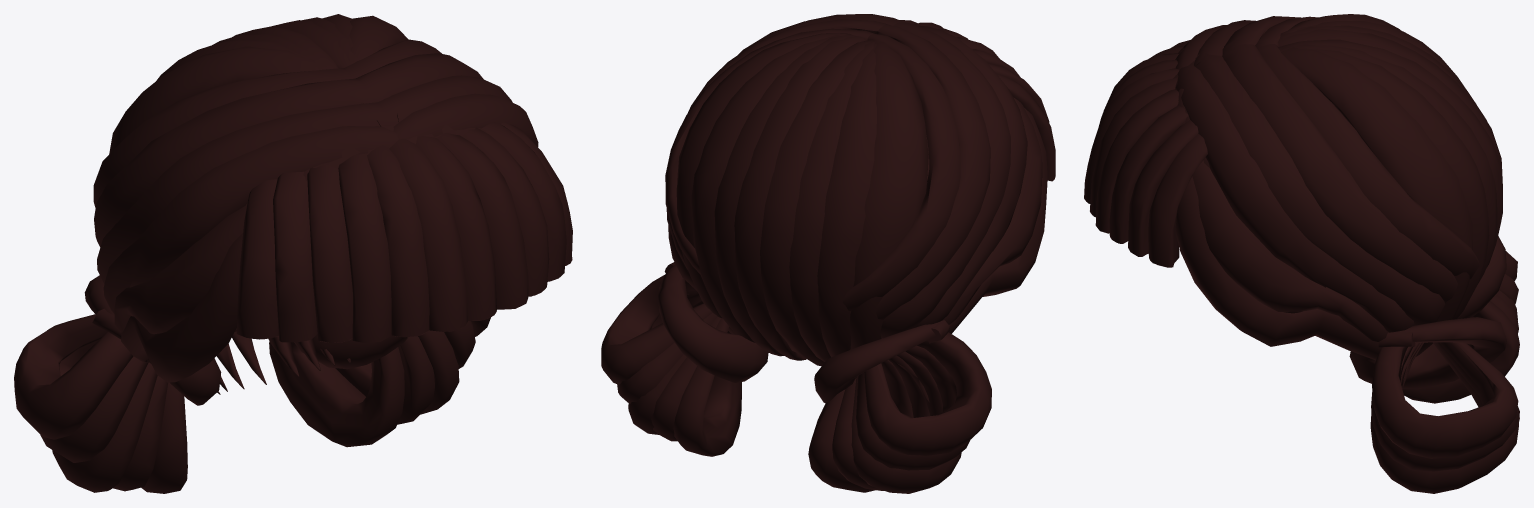
Rendered from hair-3-1a5ab6ab.glb.
The picture shows the model from 3 angles, left to right: view 1: azimuth 30°, elevation 25°; view 2: azimuth 150°, elevation 25°; view 3: azimuth 270°, elevation 25°; orthographic projection. The views are drawn at different scales.
Visible parts, largest first — view 1: hair_3.001; view 2: hair_3.001; view 3: hair_3.001.
Part boxes in pixels (bbox=[...]): hair_3.001: bbox=[14, 14, 572, 493]; hair_3.001: bbox=[601, 14, 1055, 493]; hair_3.001: bbox=[1084, 14, 1519, 493].
Size of the model in its own units: 2.16 by 2.14 by 2.11.
